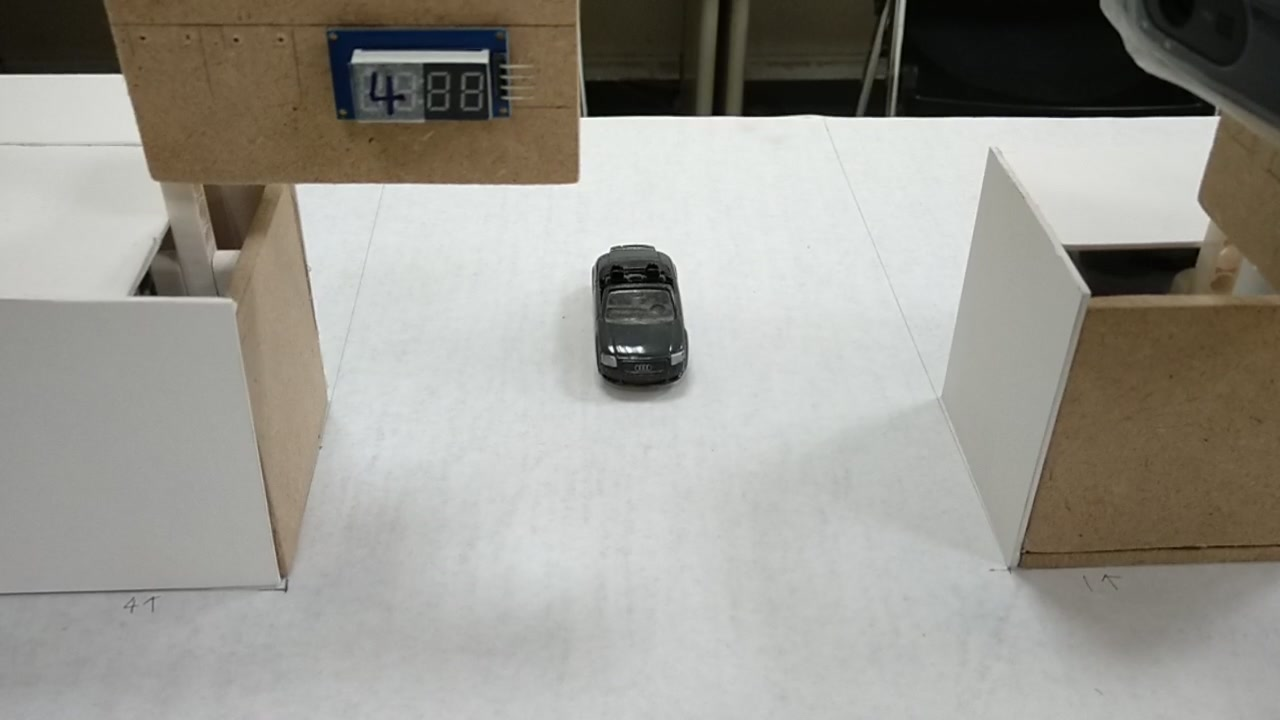car: (589, 241, 690, 388)
